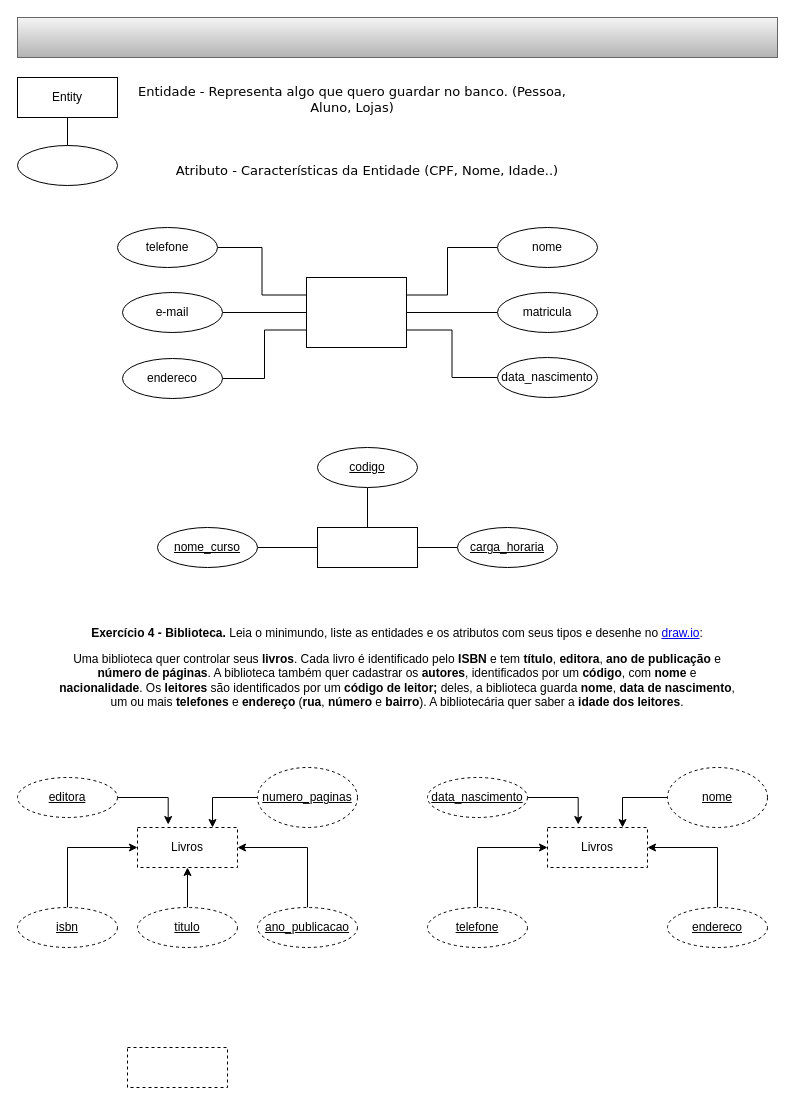
Image size: 795x1105. Some labels were removed from this diagram. The centre of each missing label's shape, as x and y in pixels:
"Aluno" goes at point (356, 312).
"Attribute" goes at point (67, 165).
"Curso" goes at point (367, 547).
"Leitores" goes at point (177, 1067).
"Modelo Conceitual" goes at point (397, 37).
